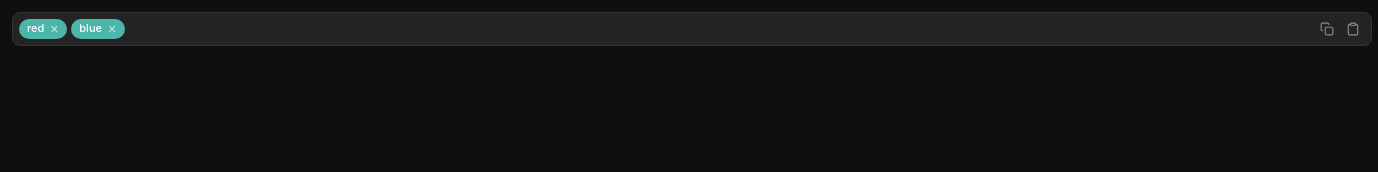
TagPanel — chip actions › tapping a chip opens an action menu instead of navigating
Click the text "red" at (43, 29), box top-left (19, 19), bottom-right (67, 39)
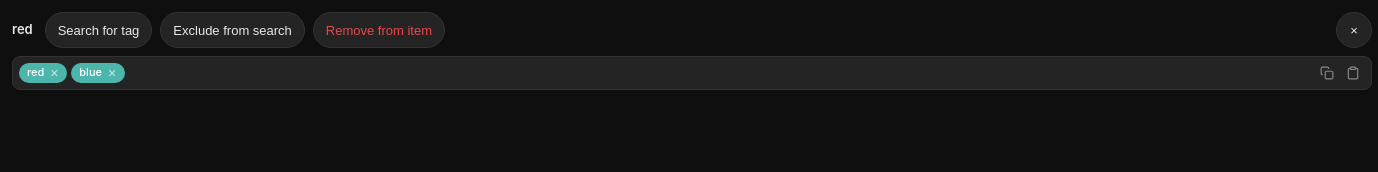
Now the element named "Actions for tag red" is shown, box top-left (12, 12), bottom-right (1372, 48)
